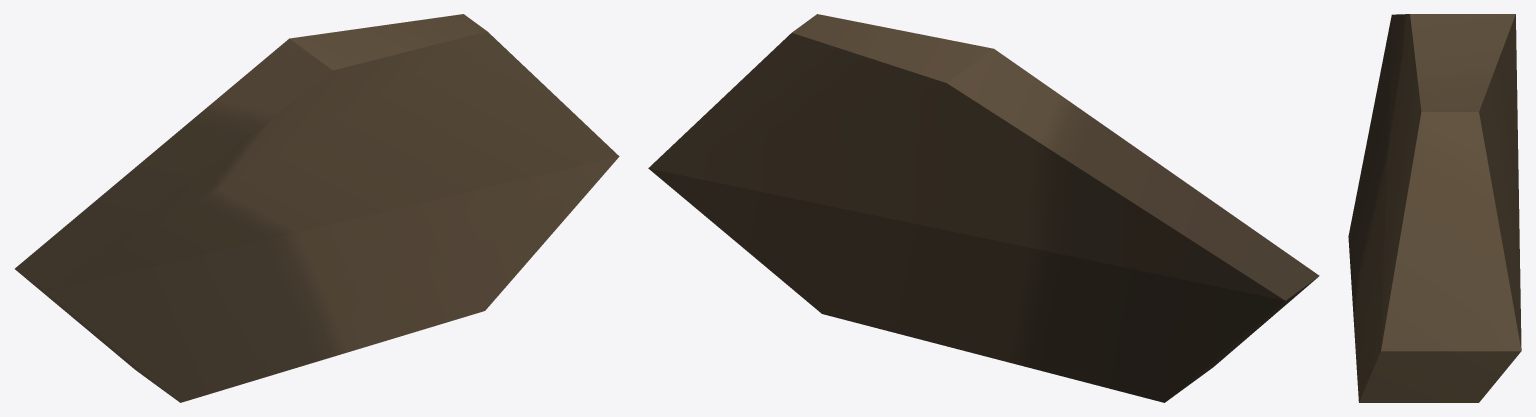
The model's file is TreeStumpProjectile.fbx.
3 renders of one model, left to right at view 1: azimuth 30°, elevation 25°; view 2: azimuth 150°, elevation 25°; view 3: azimuth 270°, elevation 25°, orthographic. The views are drawn at different scales.
Visible parts, largest first — view 1: Cube; view 2: Cube; view 3: Cube.
Boxes of the visible parts, left/top/right/bottom form: Cube: left=15, top=14, right=619, bottom=402; Cube: left=648, top=14, right=1319, bottom=402; Cube: left=1348, top=14, right=1521, bottom=402.
Bounding box in the file's own units: 65.93 × 29.95 × 14.33.
